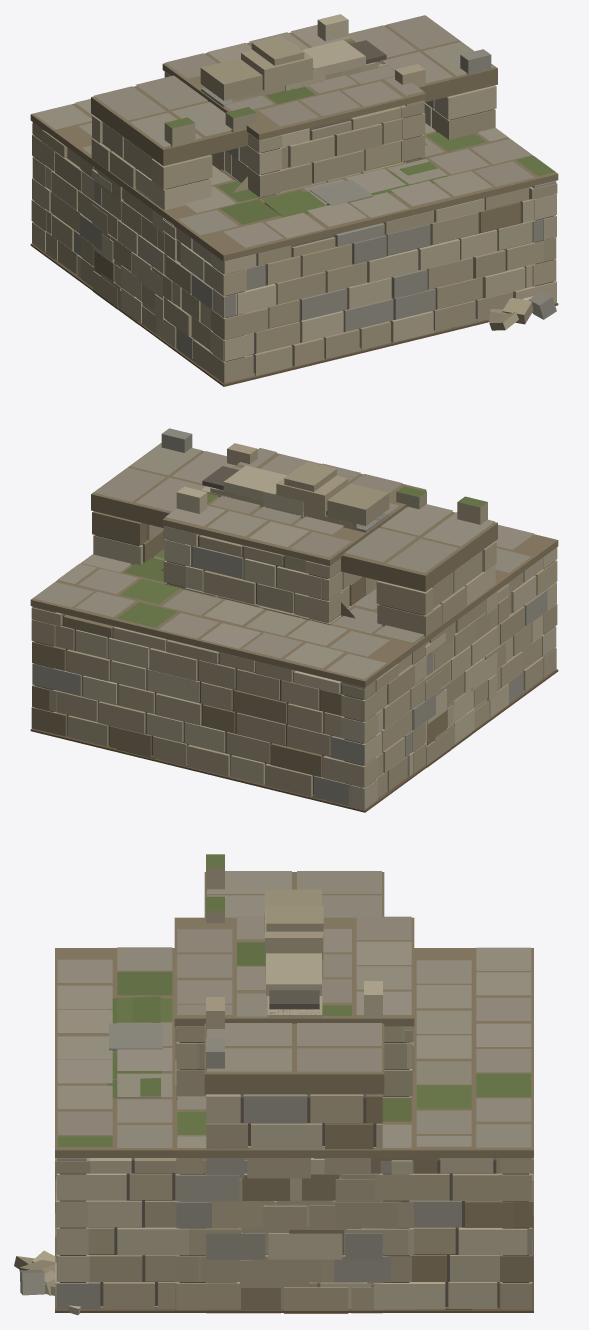
The model's file is ruin.glb.
3 renders of one model, top to bottom at view 1: azimuth 30°, elevation 25°; view 2: azimuth 150°, elevation 25°; view 3: azimuth 270°, elevation 25°, orthographic. The views are drawn at different scales.
Parts seen in each view (by area): view 1: r_plat_8x8_3, r_bridge_8, r_plat_4x4_45, r_plat_8x4_3, r_arch_4, r_ramp_rubble_3, r_floor_8; view 2: r_plat_8x8_3, r_bridge_8, r_plat_4x4_45, r_plat_8x4_3, r_arch_4, r_floor_8, r_pillar_square; view 3: r_plat_8x8_3, r_bridge_8, r_plat_4x4_45, r_plat_8x4_3, r_arch_4, r_ramp_rubble_3, r_floor_8.
Part boxes in pixels (<box>): r_plat_8x8_3: <box>30,99,558,383</box>; r_bridge_8: <box>91,14,497,339</box>; r_plat_4x4_45: <box>162,24,426,198</box>; r_plat_8x4_3: <box>79,123,506,348</box>; r_arch_4: <box>200,35,387,172</box>; r_ramp_rubble_3: <box>264,161,447,217</box>; r_floor_8: <box>30,243,558,386</box>; r_plat_8x8_3: <box>30,524,558,809</box>; r_bridge_8: <box>91,428,497,767</box>; r_plat_4x4_45: <box>162,448,426,624</box>; r_plat_8x4_3: <box>82,549,509,773</box>; r_arch_4: <box>200,461,389,595</box>; r_floor_8: <box>30,669,558,812</box>; r_pillar_square: <box>263,492,303,517</box>; r_plat_8x8_3: <box>14,947,533,1309</box>; r_bridge_8: <box>204,854,384,1313</box>; r_plat_4x4_45: <box>174,916,414,1099</box>; r_plat_8x4_3: <box>174,1109,414,1309</box>; r_arch_4: <box>264,889,323,1017</box>; r_ramp_rubble_3: <box>107,996,162,1098</box>; r_floor_8: <box>55,1169,533,1315</box>.
Bounding box in the file's own units: 8.14 × 5.31 × 9.37.
